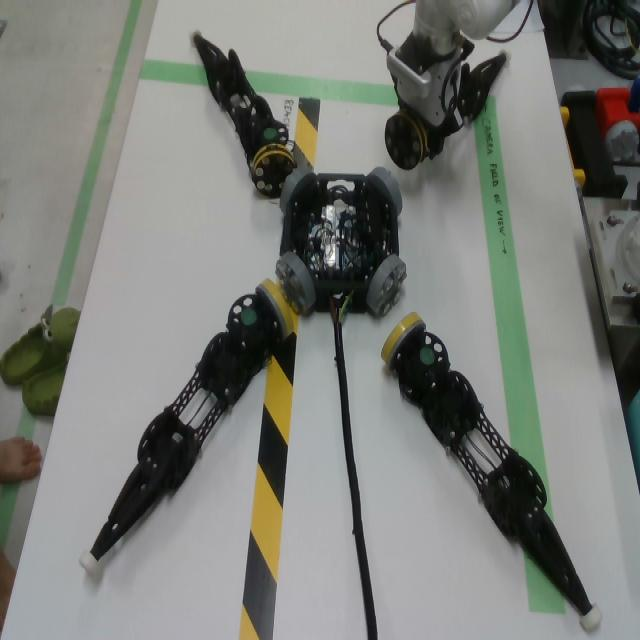body: (279, 175, 399, 315)
body_connector: (275, 252, 316, 317), (365, 255, 407, 317), (366, 167, 403, 217), (280, 168, 315, 215)
gripper: (391, 57, 465, 161)
leg: (380, 312, 603, 632), (79, 279, 293, 576), (188, 27, 297, 199), (457, 48, 512, 121), (384, 105, 432, 171)
leg_connector: (381, 312, 427, 371), (384, 109, 428, 169), (251, 144, 296, 199), (255, 279, 293, 341)
leg_marker: (242, 308, 256, 325), (420, 348, 434, 365), (264, 128, 277, 139)
